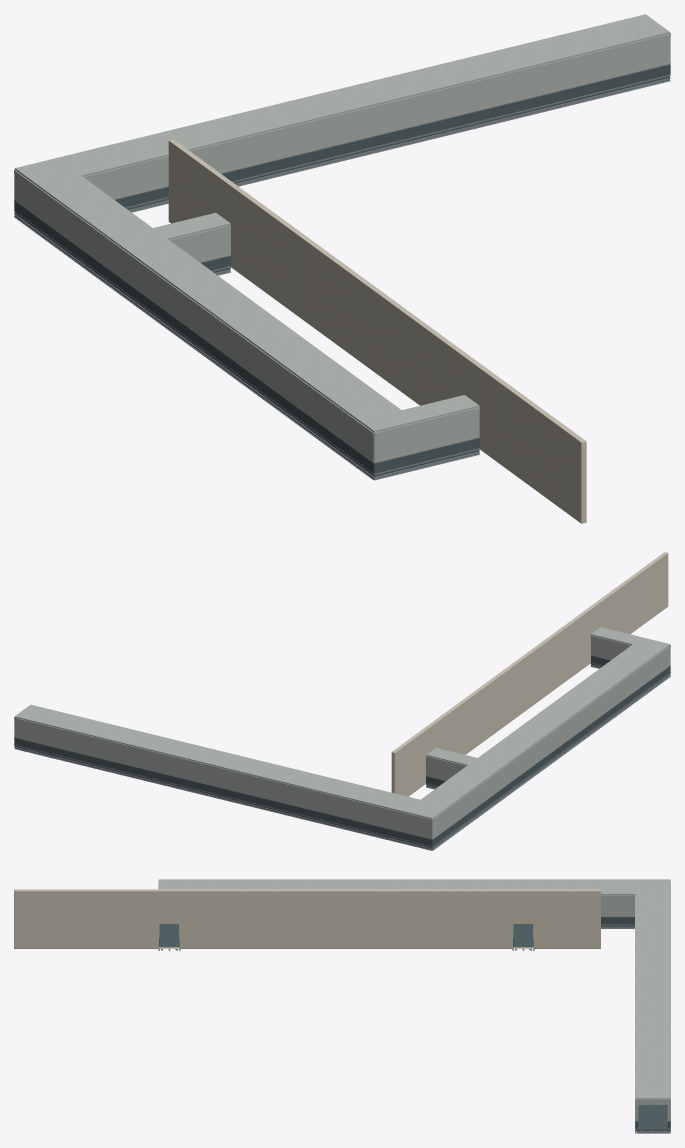
File: MOONFRUIT_SERVICE_RECEIVER_r001.glb
3 renders of one model, top to bottom at view 1: azimuth 30°, elevation 25°; view 2: azimuth 150°, elevation 25°; view 3: azimuth 270°, elevation 25°, orthographic. The views are drawn at different scales.
Parts seen in each view (by area): view 1: MFS_BATCH_001, MFS_EXACT_WEST_SUCCESSOR, MFS_BATCH_000, MFS_BATCH_002; view 2: MFS_BATCH_001, MFS_EXACT_WEST_SUCCESSOR, MFS_BATCH_000, MFS_BATCH_002; view 3: MFS_EXACT_WEST_SUCCESSOR, MFS_BATCH_001, MFS_BATCH_000, MFS_BATCH_002.
Part boxes in pixels (x1=…): MFS_BATCH_001: x1=14, y1=14, x2=670, y2=462; MFS_EXACT_WEST_SUCCESSOR: x1=168, y1=139, x2=586, y2=523; MFS_BATCH_000: x1=14, y1=64, x2=670, y2=476; MFS_BATCH_002: x1=14, y1=63, x2=670, y2=480; MFS_BATCH_001: x1=14, y1=627, x2=670, y2=839; MFS_EXACT_WEST_SUCCESSOR: x1=391, y1=552, x2=668, y2=796; MFS_BATCH_000: x1=14, y1=656, x2=670, y2=848; MFS_BATCH_002: x1=14, y1=655, x2=670, y2=850; MFS_EXACT_WEST_SUCCESSOR: x1=14, y1=889, x2=600, y2=948; MFS_BATCH_001: x1=158, y1=879, x2=670, y2=1120; MFS_BATCH_000: x1=159, y1=917, x2=670, y2=1131; MFS_BATCH_002: x1=158, y1=916, x2=670, y2=1133.
Bounding box in the file's own units: 60.39 × 7.86 × 76.09.
6 materials, 5 textured.
